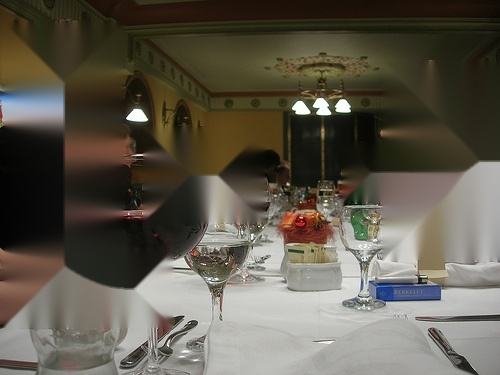bottle: (29, 152, 118, 375)
diningtable: (1, 189, 500, 375)
